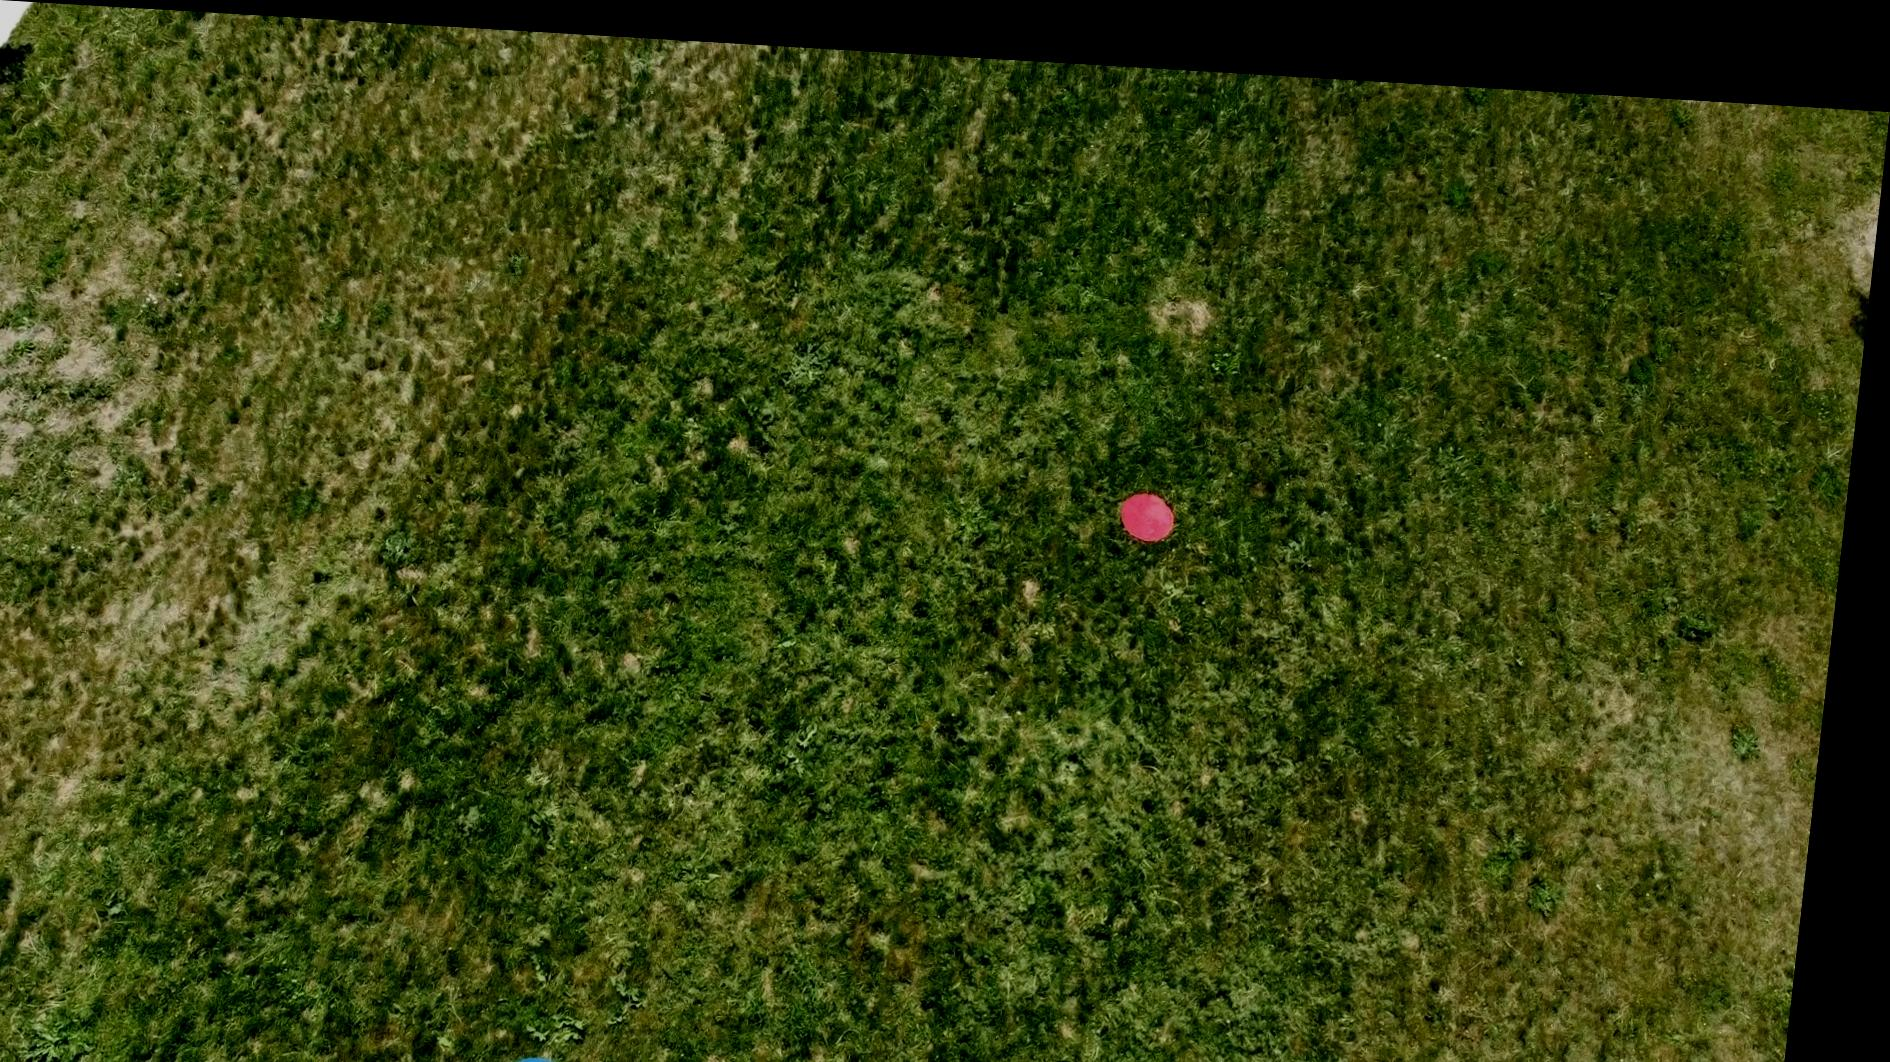Blue: (515, 1044, 595, 1062)
Red: (1127, 471, 1193, 534)
